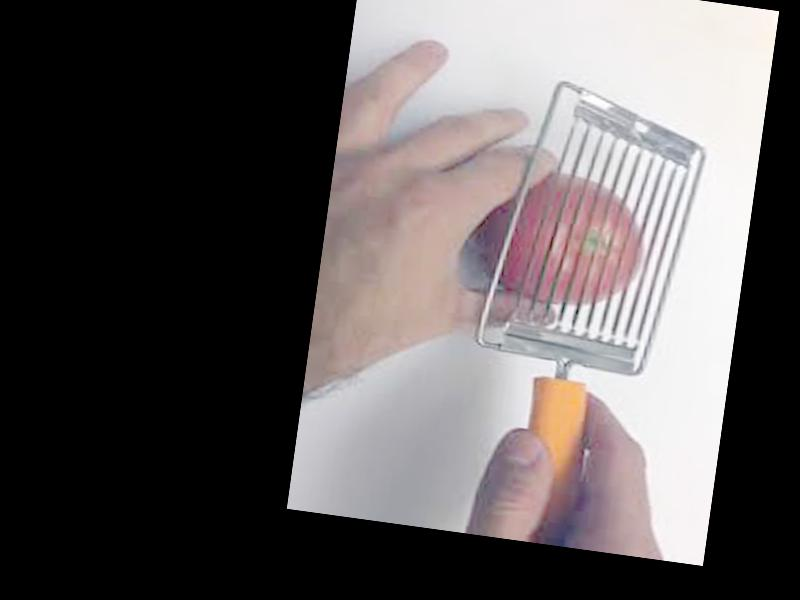Tomato: (474, 168, 650, 317)
